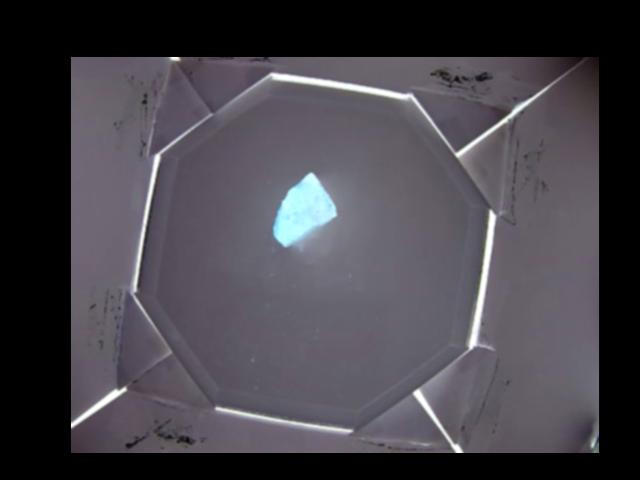Brisk: (270, 172, 336, 245)
